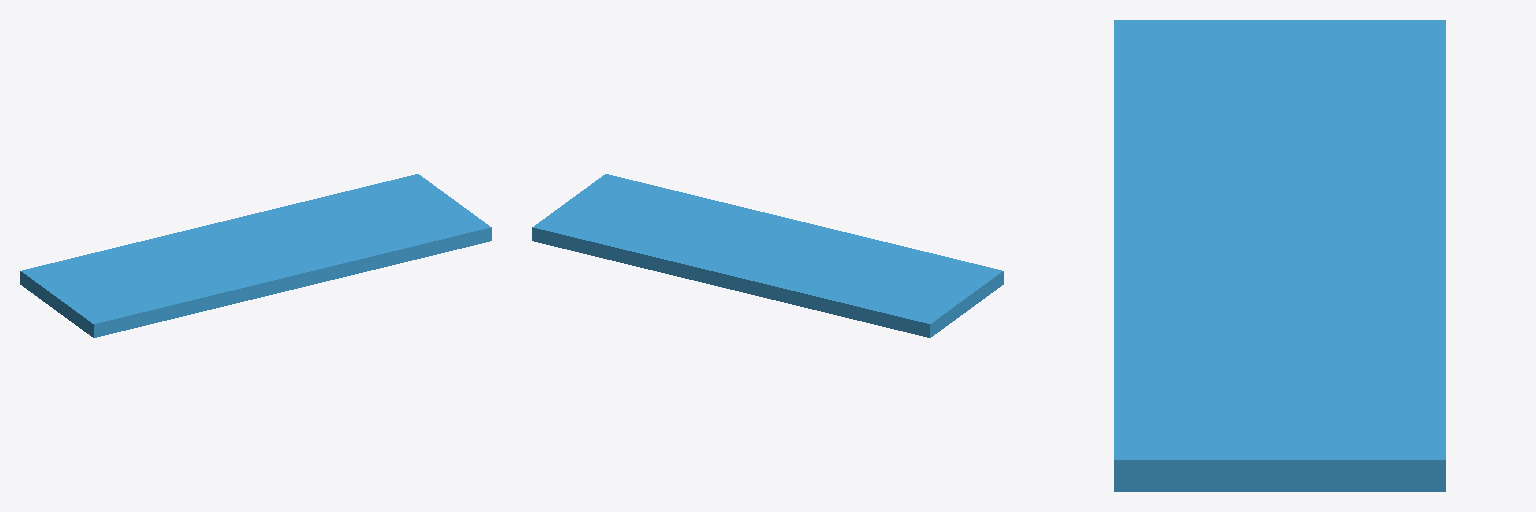
robot.urdf — cylinder_91:
    
    <robot name="cylinder_91">
        <link name="cylinder_91">    
            <fem>
                <origin rpy="0.0 0.0 0.0" xyz="0 0 0" />
                <density value="100" />
                <youngs value="985"/>
                <poissons value="0.3" />
                <damping value="0.0" />
                <attachDistance value="0.01" />
                <tetmesh filename="[local-path]/sim_data/Custom/Custom_mesh/multi_cylinders_official/cylinder_91.tet" />
                <scale value="0.5"/>
            </fem>
        </link>

        <link name="fix_frame">
            <visual>
                <origin xyz="0.0 0.0 10.091602927987596"/>
                <geometry>
                    <box size="0.15 0.04780908454147128 0.005"/>
                </geometry>
            </visual>
            <collision>
                <origin xyz="0.0 0.0 0.09160292798759548"/>
                <geometry>
                    <box size="0.15 0.04780908454147128 0.005"/>
                </geometry>
            </collision>
            <inertial>
                <mass value="500000"/>
                <inertia ixx="0.05" ixy="0.0" ixz="0.0" iyy="0.05" iyz="0.0" izz="0.05"/>
            </inertial>
        </link>
        
        <joint name = "attach" type = "fixed">
            <origin xyz = "0.0 0.0 0.0" rpy = "0 0 0"/>
            <parent link ="cylinder_91"/>
            <child link = "fix_frame"/>
        </joint>  




    </robot>
    

--- Render facts (derived) ---
The picture shows the robot from 3 angles, left to right: view 1: azimuth 30°, elevation 25°; view 2: azimuth 150°, elevation 25°; view 3: azimuth 270°, elevation 25°; orthographic projection.
Robot: cylinder_91 — 2 links, 1 joints (1 fixed); root link cylinder_91; default pose: every joint at zero.
Links seen in each view (by area): view 1: fix_frame; view 2: fix_frame; view 3: fix_frame.
Boxes of the visible links, x1,y1,x2,y2 form: fix_frame: [20, 174, 491, 337]; fix_frame: [532, 174, 1003, 337]; fix_frame: [1114, 20, 1445, 491].
Bounding box of the posed robot: 0.15 × 0.0478 × 0.005 m (x, y, z).
Geometry: primitives only (box / cylinder / sphere), no mesh files.